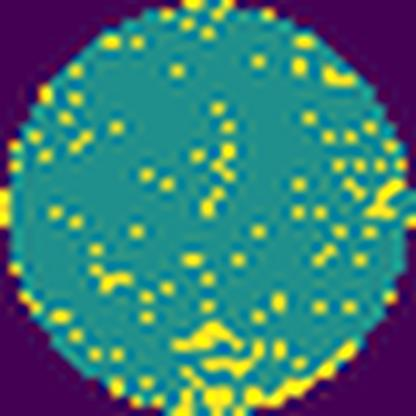Edge-Loc: (246, 340, 362, 414), (184, 362, 237, 414)
